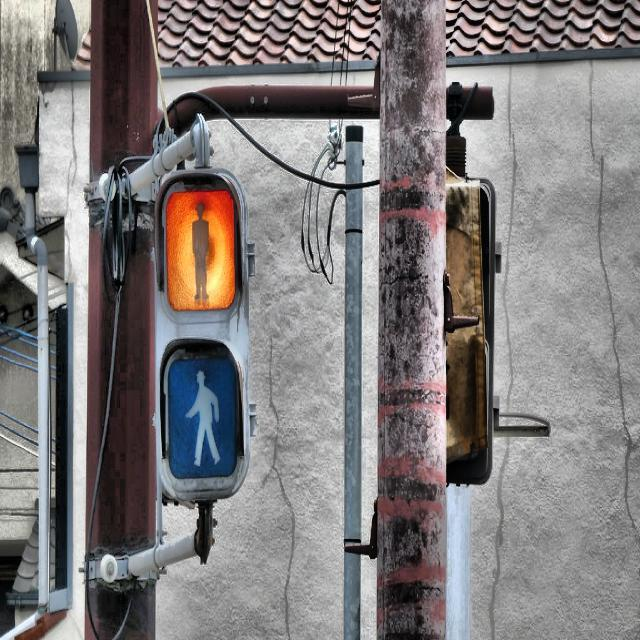red_light: (187, 195, 212, 302)
